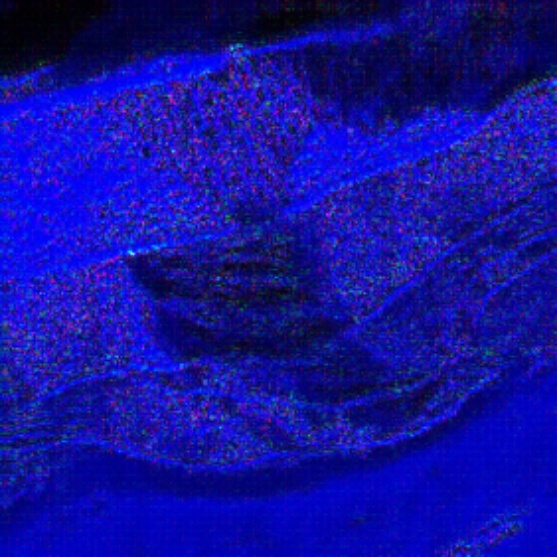rip_current: (96, 126, 406, 449)
